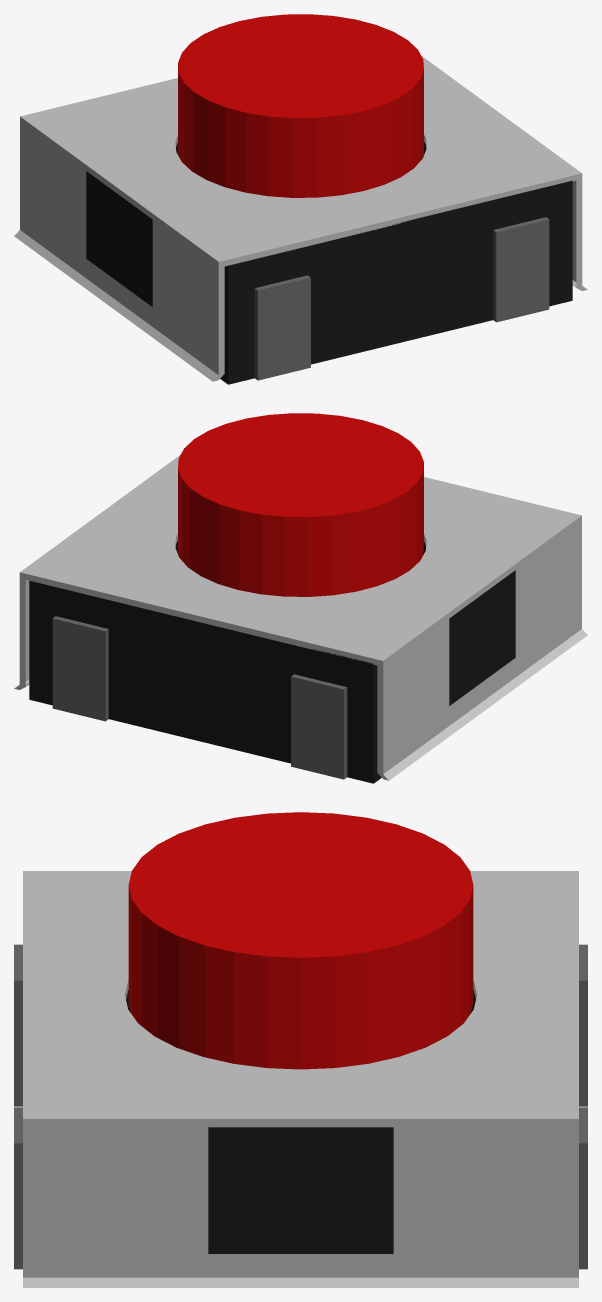
File: 4cornerAVRButton.fbx
3 views of the same model, one above another, from view 1: azimuth 30°, elevation 25°; view 2: azimuth 150°, elevation 25°; view 3: azimuth 270°, elevation 25° (orthographic). The views are drawn at different scales.
Parts seen in each view (by area): view 1: Shield, buttonBase, Cylinder; view 2: Shield, buttonBase, Cylinder; view 3: Shield, Cylinder, buttonBase.
Part boxes in pixels (x1,y1,x2,y2): Shield: (14, 55, 587, 381); buttonBase: (86, 142, 572, 384); Cylinder: (178, 14, 423, 197); Shield: (14, 454, 587, 780); buttonBase: (29, 541, 515, 783); Cylinder: (178, 413, 423, 596); Shield: (23, 871, 578, 1287); Cylinder: (128, 812, 473, 1069); buttonBase: (14, 944, 587, 1269).
Size of the model in its own units: 327 by 170 by 310.
